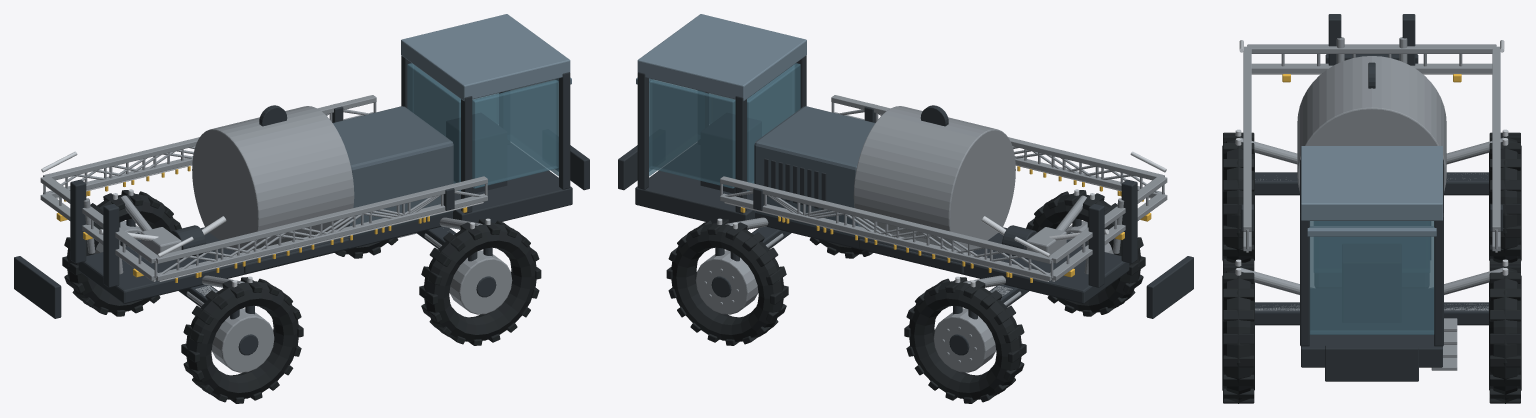
Rendered from case-ih-trident-5550-structural-study.glb.
3 renders of one model, left to right at view 1: azimuth 30°, elevation 25°; view 2: azimuth 150°, elevation 25°; view 3: azimuth 270°, elevation 25°, orthographic. The views are drawn at different scales.
Parts seen in each view (by area): view 1: Solution_Tank_1600gal_Exterior, Cab_Roof, Engine_House, Cab_R_Glass, Rear_R_Tire, Front_R_Tire, High_Clearance_Frame, Cab_Floor, Cab_Rear_Glass, Operator_Seat, Front_R_Rim, Rear_R_Rim (+22 smaller); view 2: Solution_Tank_1600gal_Exterior, Cab_Roof, Engine_House, Cab_L_Glass, Rear_L_Tire, Front_L_Tire, High_Clearance_Frame, Cab_Floor, Cab_Rear_Glass, Operator_Seat, Front_L_Rim, Rear_L_Rim (+23 smaller); view 3: Cab_Front_Glass, Solution_Tank_1600gal_Exterior, Cab_Roof, Cab_Floor, Operator_Seat, Front_End_Structure, Front_L_Tire, Front_R_Tire, Boom_Center_Upper_Rail, Rear_Adjustable_Axle_Beam, Front_Adjustable_Axle_Beam, Rear_L_Tire (+31 smaller).
Boxes of the visible parts, bbox=[...] form: Solution_Tank_1600gal_Exterior: bbox=[192, 106, 354, 252]; Cab_Roof: bbox=[401, 14, 570, 101]; Engine_House: bbox=[333, 106, 453, 236]; Cab_R_Glass: bbox=[472, 79, 558, 188]; Rear_R_Tire: bbox=[186, 281, 298, 399]; Front_R_Tire: bbox=[424, 223, 536, 341]; High_Clearance_Frame: bbox=[78, 212, 452, 303]; Cab_Floor: bbox=[453, 143, 572, 230]; Cab_Rear_Glass: bbox=[407, 63, 460, 191]; Operator_Seat: bbox=[446, 113, 507, 193]; Front_R_Rim: bbox=[449, 250, 512, 314]; Rear_R_Rim: bbox=[211, 308, 274, 372]; Solution_Tank_1600gal_Exterior: bbox=[853, 106, 1015, 252]; Cab_Roof: bbox=[637, 14, 806, 101]; Engine_House: bbox=[754, 106, 874, 236]; Cab_L_Glass: bbox=[649, 79, 735, 188]; Rear_L_Tire: bbox=[909, 281, 1021, 399]; Front_L_Tire: bbox=[671, 223, 783, 341]; High_Clearance_Frame: bbox=[755, 212, 1129, 303]; Cab_Floor: bbox=[635, 143, 754, 230]; Cab_Rear_Glass: bbox=[747, 63, 800, 191]; Operator_Seat: bbox=[700, 113, 761, 193]; Front_L_Rim: bbox=[695, 250, 758, 314]; Rear_L_Rim: bbox=[933, 308, 996, 372]; Cab_Front_Glass: bbox=[1309, 221, 1434, 334]; Solution_Tank_1600gal_Exterior: bbox=[1297, 56, 1446, 192]; Cab_Roof: bbox=[1301, 146, 1442, 220]; Cab_Floor: bbox=[1301, 289, 1442, 367]; Operator_Seat: bbox=[1342, 244, 1401, 322]; Front_End_Structure: bbox=[1325, 345, 1418, 381]; Front_L_Tire: bbox=[1489, 263, 1521, 403]; Front_R_Tire: bbox=[1222, 263, 1254, 403]; Boom_Center_Upper_Rail: bbox=[1247, 44, 1496, 53]; Rear_Adjustable_Axle_Beam: bbox=[1255, 172, 1488, 195]; Front_Adjustable_Axle_Beam: bbox=[1255, 302, 1488, 325]; Rear_L_Tire: bbox=[1489, 133, 1521, 262].
Size of the model in its own units: 9.72 by 4.01 by 4.21.
